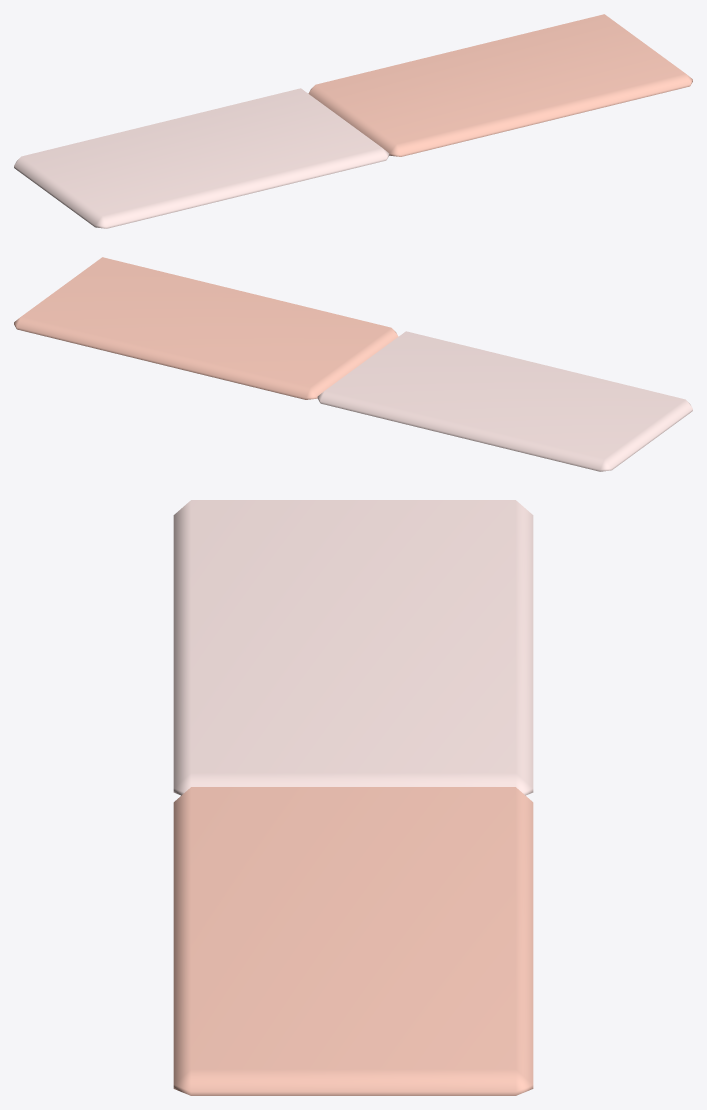
File: Farm_13_Path_1.glb
The picture shows the model from 3 angles, top to bottom: view 1: azimuth 30°, elevation 25°; view 2: azimuth 150°, elevation 25°; view 3: azimuth 270°, elevation 25°; orthographic projection. The views are drawn at different scales.
Visible parts, largest first — view 1: Farm_13_Path_1; view 2: Farm_13_Path_1; view 3: Farm_13_Path_1.
Boxes of the visible parts, left/top/right/bottom form: Farm_13_Path_1: left=14, top=14, right=692, bottom=228; Farm_13_Path_1: left=14, top=257, right=692, bottom=471; Farm_13_Path_1: left=173, top=500, right=533, bottom=1095.
Bounding box in the file's own units: 2.58 × 0.0404 × 0.6721.
1 material, 1 textured.
